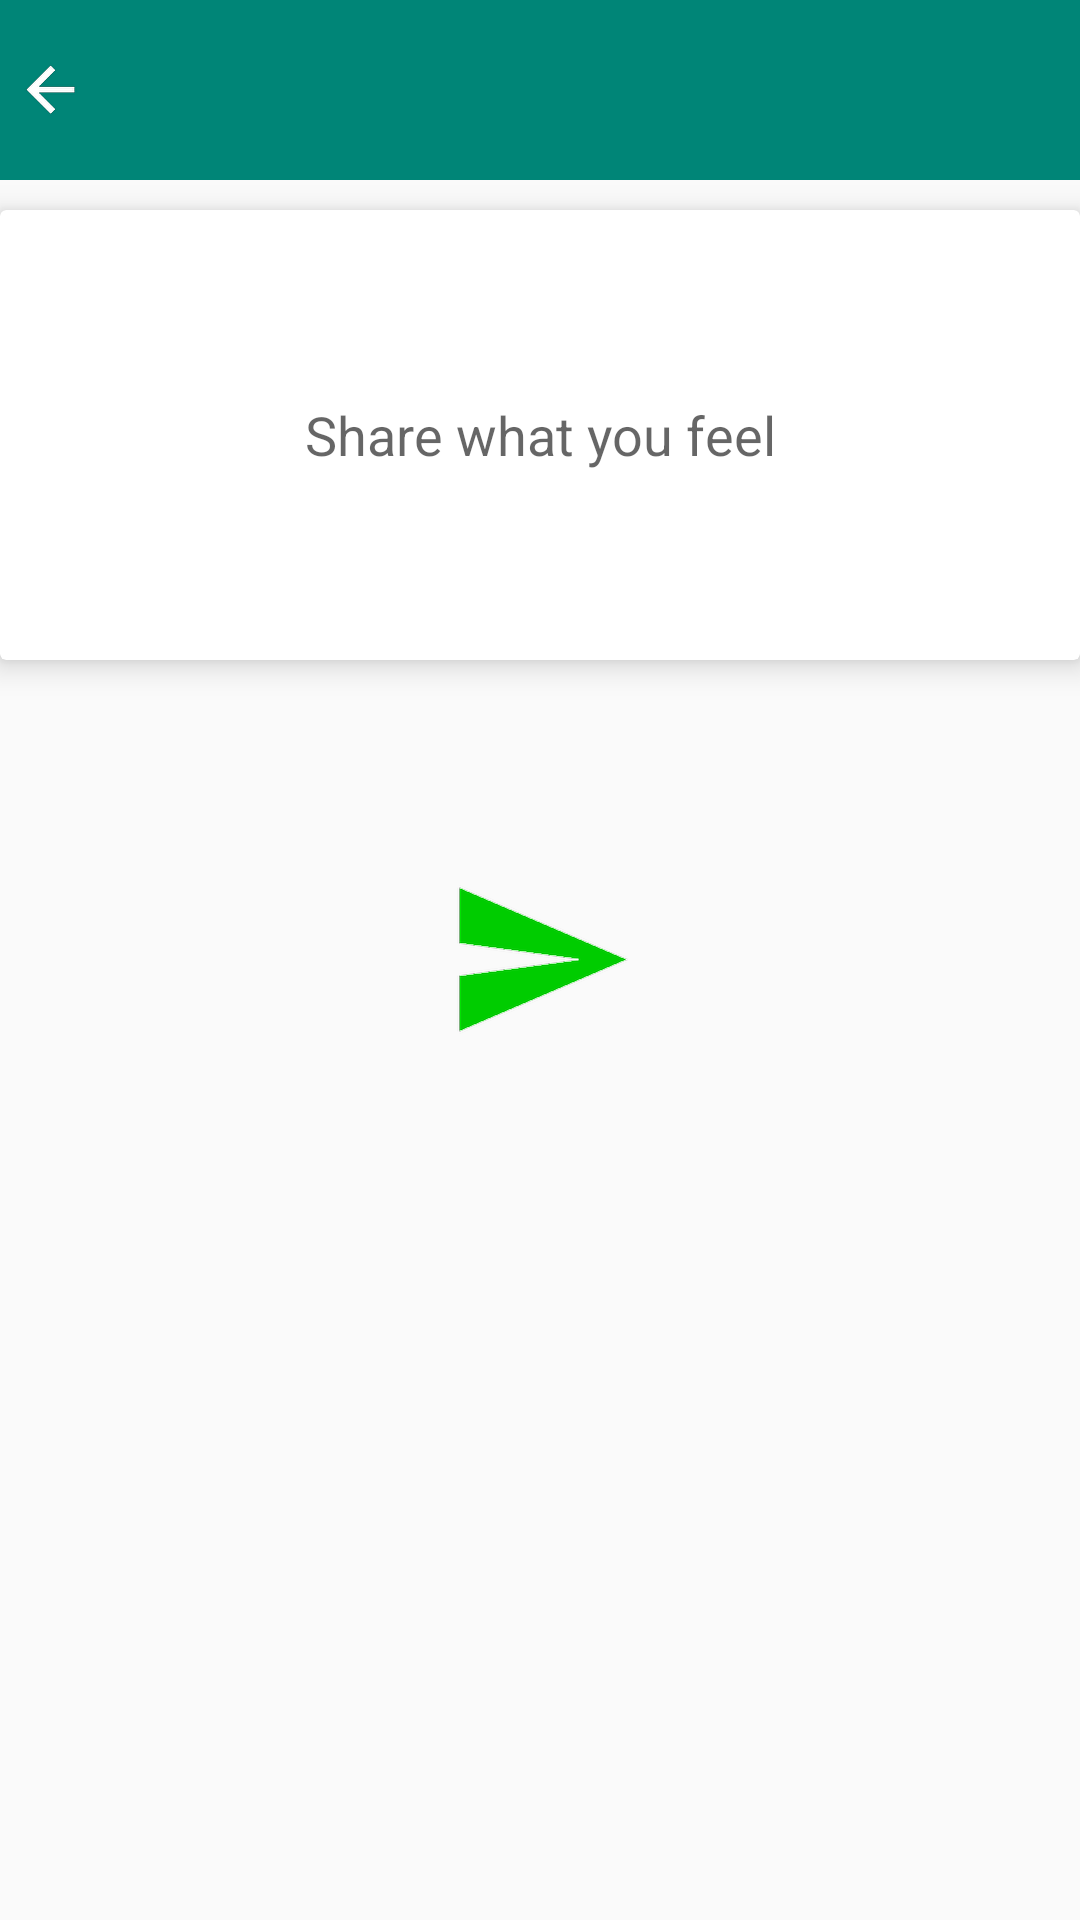

Icon bounding boxes for this 1080px x 1920px phone screenshot, format [x1,y1,x2,y2]:
back: [26,65,75,114]
